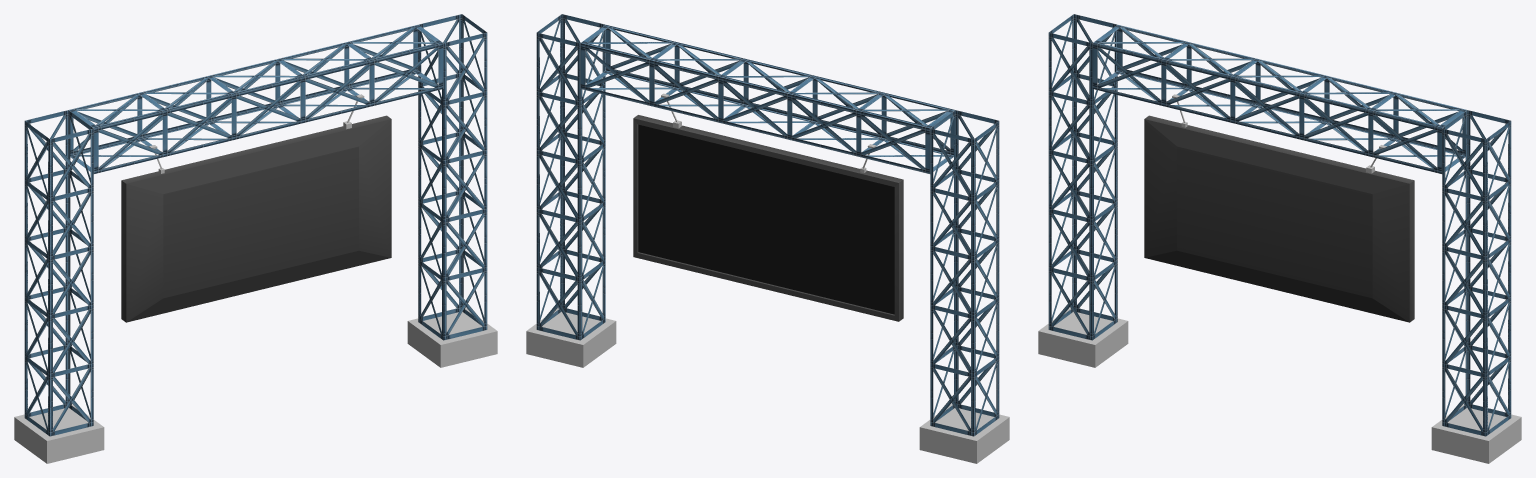
Rendered from Big-Screen-02.fbx.
3 views of the same model, side by side, from view 1: azimuth 30°, elevation 25°; view 2: azimuth 150°, elevation 25°; view 3: azimuth 330°, elevation 25° (orthographic).
Parts seen in each view (by area): view 1: Metal_Extructure; view 2: Metal_Extructure, Screen; view 3: Metal_Extructure.
Boxes of the visible parts, bbox=[...] form: Metal_Extructure: bbox=[14, 14, 497, 463]; Metal_Extructure: bbox=[526, 14, 1009, 463]; Screen: bbox=[638, 124, 894, 314]; Metal_Extructure: bbox=[1038, 14, 1521, 463].
Size of the model in its own units: 2061 by 1400 by 261.
